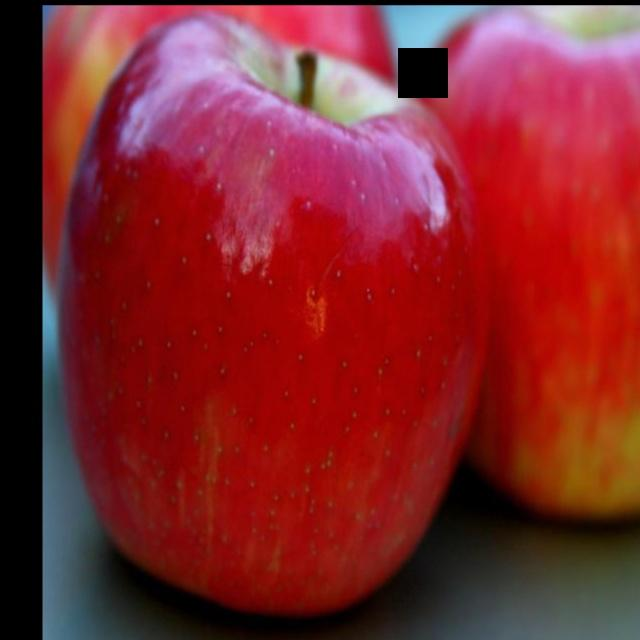red apple: (61, 13, 478, 619)
